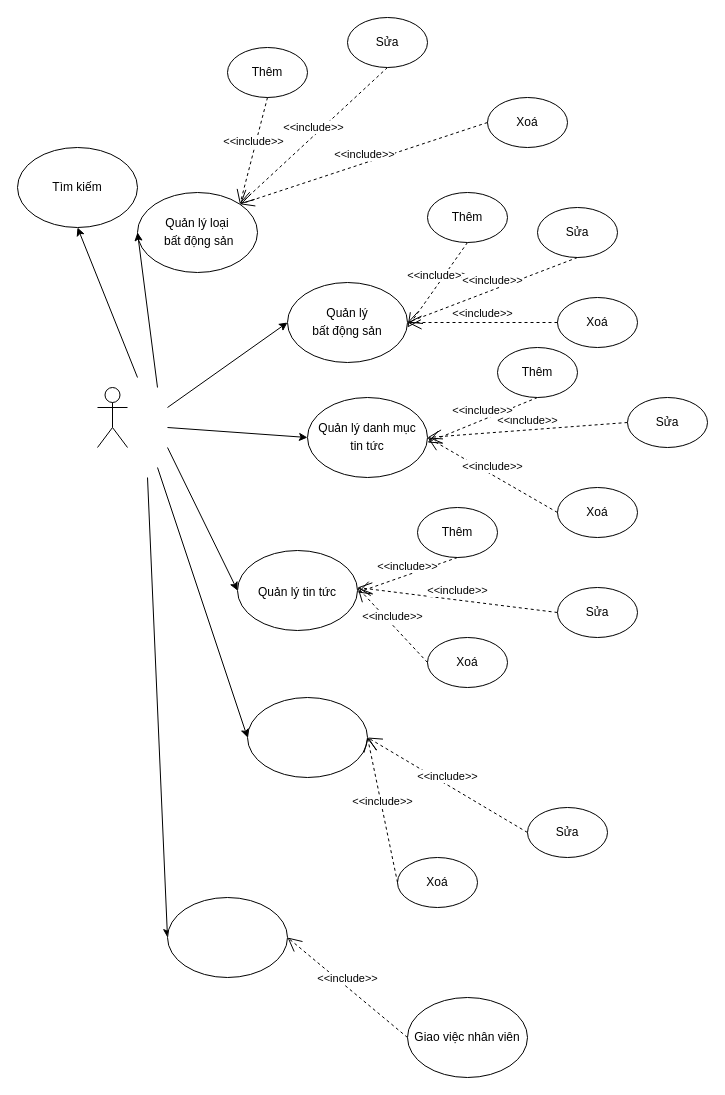
Image size: 725x1095. Some labels were removed from this diagram. Here are the shapes that lost their labels. From the top down, the centre of each, then its label:
At (x=112, y=417): "Admin".
At (x=307, y=737): "Quản lý người dùng".
At (x=227, y=937): "Quản lý bất động sản tư vấn".
